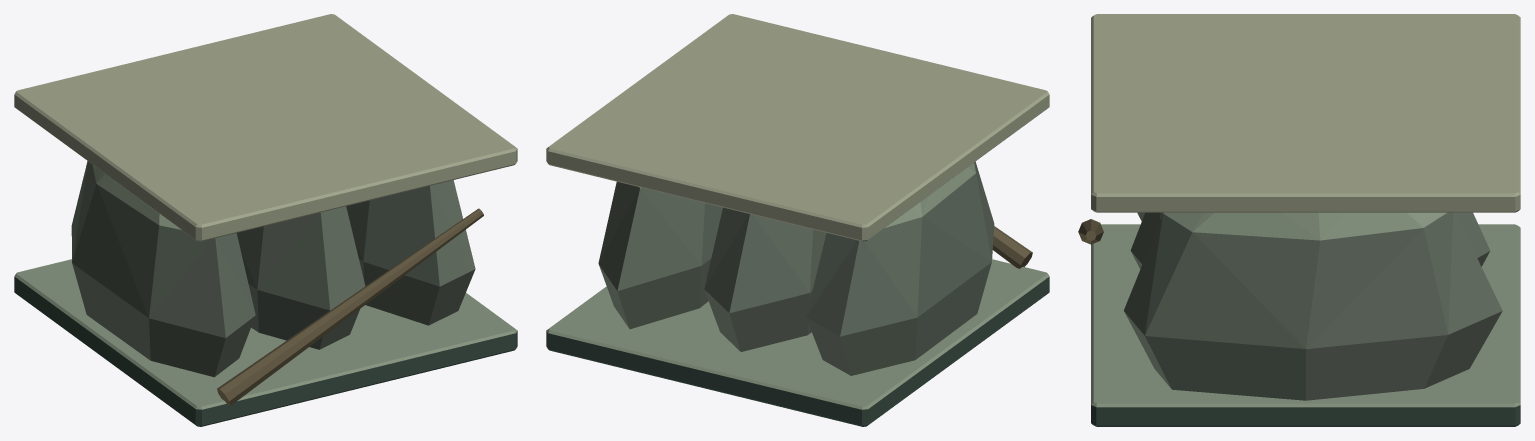
File: platform.glb
3 views of the same model, side by side, from view 1: azimuth 30°, elevation 25°; view 2: azimuth 150°, elevation 25°; view 3: azimuth 270°, elevation 25° (orthographic). The views are drawn at different scales.
Visible parts, largest first — view 1: platform__body; view 2: platform__body; view 3: platform__body.
Boxes of the visible parts, x1,y1,x2,y2 form: platform__body: [14, 14, 517, 426]; platform__body: [546, 14, 1049, 426]; platform__body: [1078, 14, 1520, 426].
Size of the model in its own units: 2.01 by 1.2 by 2.06.
